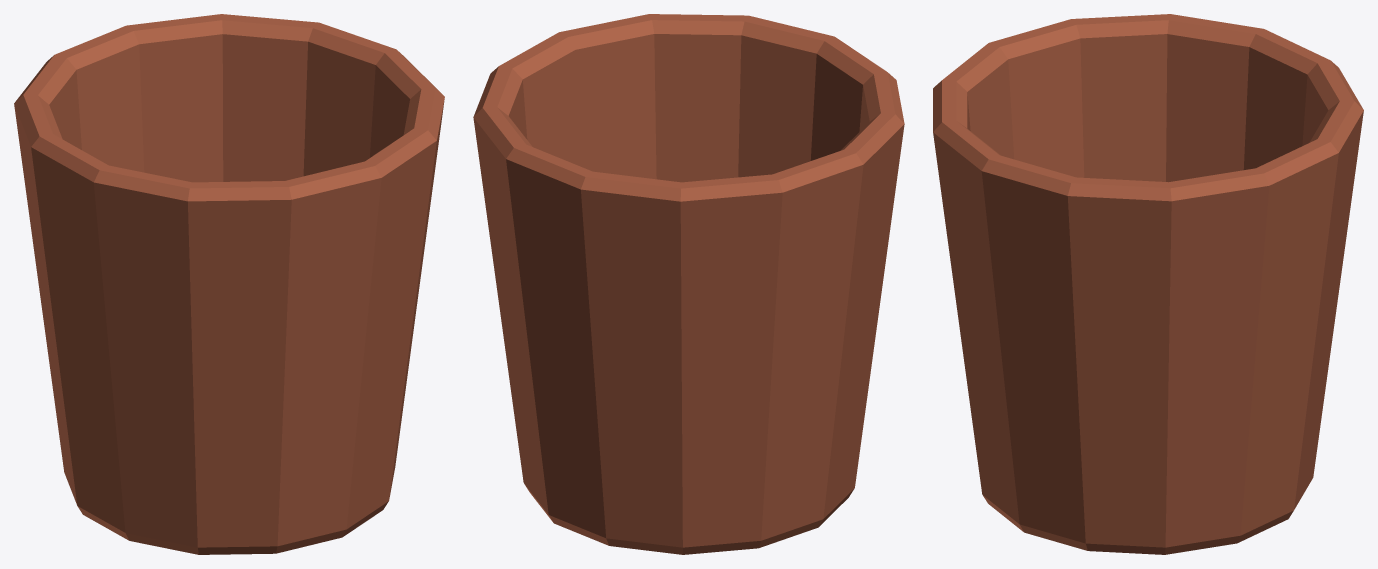
File: dice cup.fbx
The picture shows the model from 3 angles, left to right: view 1: azimuth 30°, elevation 25°; view 2: azimuth 150°, elevation 25°; view 3: azimuth 270°, elevation 25°; orthographic projection.
Visible parts, largest first — view 1: dice cup; view 2: dice cup; view 3: dice cup.
Boxes of the visible parts, bbox=[...] form: dice cup: bbox=[14, 14, 444, 554]; dice cup: bbox=[473, 14, 904, 554]; dice cup: bbox=[933, 14, 1363, 554].
Size of the model in its own units: 9 by 9 by 9.
